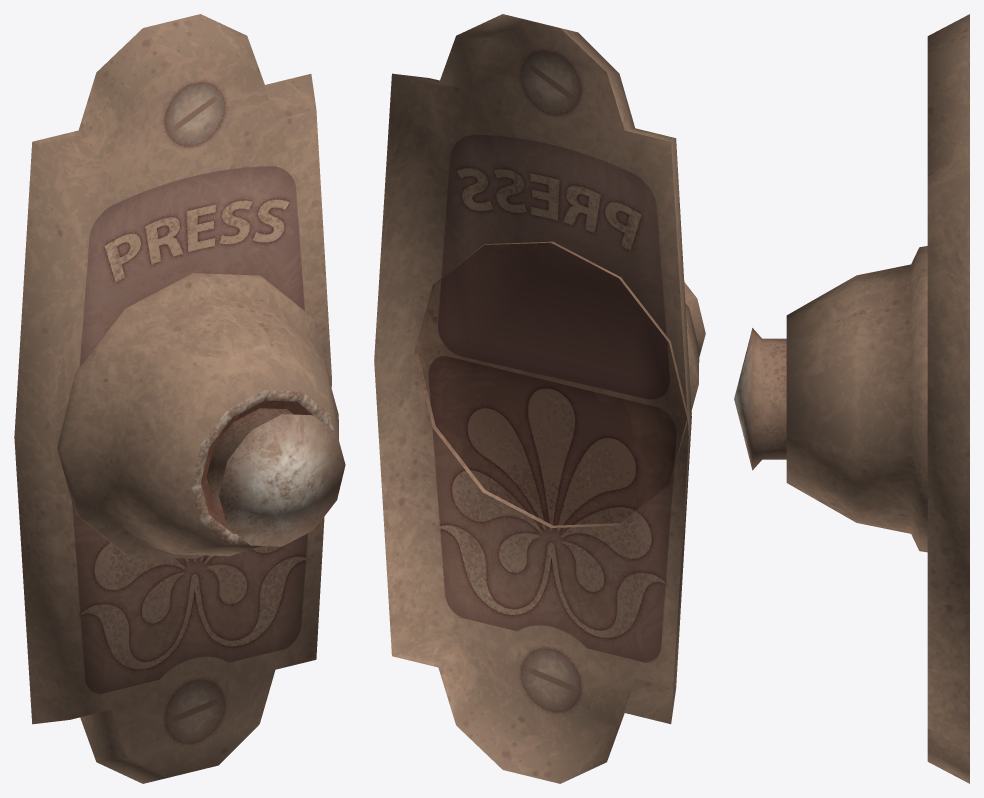
File: door_bell.glb
The picture shows the model from 3 angles, left to right: view 1: azimuth 30°, elevation 25°; view 2: azimuth 150°, elevation 25°; view 3: azimuth 270°, elevation 25°; orthographic projection.
Parts seen in each view (by area): view 1: door_bell; view 2: door_bell; view 3: door_bell.
Part boxes in pixels (x1=…): door_bell: x1=14, y1=14, x2=345, y2=783; door_bell: x1=374, y1=14, x2=705, y2=783; door_bell: x1=734, y1=14, x2=969, y2=783.
Bounding box in the file's own units: 0.4708 × 1.08 × 0.3111.
1 material, 1 textured.
